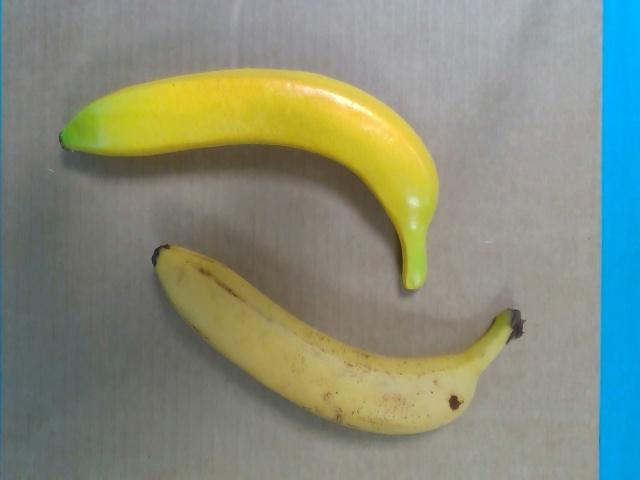banana: (57, 68, 439, 289), (151, 245, 523, 435)
